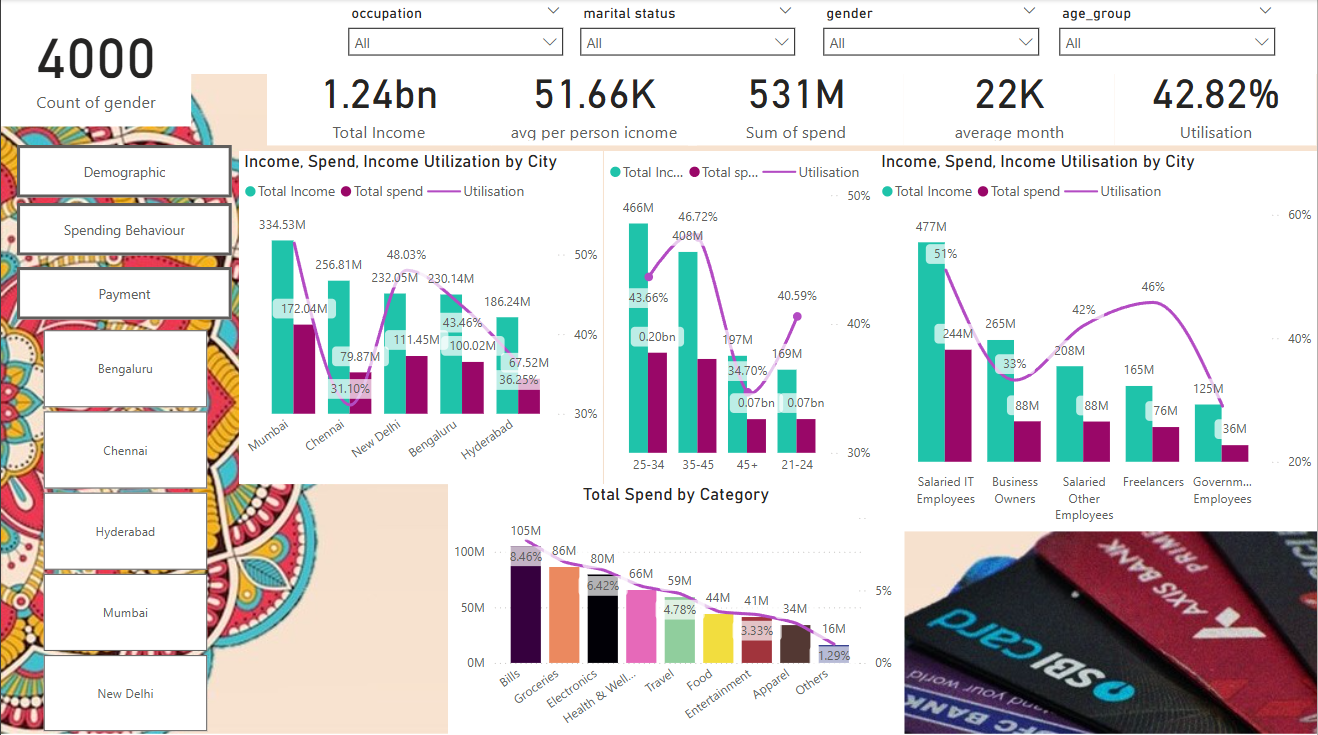

The dashboard page shown, as its layout file describes it:
{"tool":"powerbi","page":{"name":"Spending","canvas":[1280,720],"ordinal":1},"visuals":[{"type":"card","fields":{"Values":["Sum(fact_spends.spend)"]},"box":[668.2,55.4,210.1,86.6],"z":7000},{"type":"card","fields":{"Values":["merene.avg per person icnome"]},"box":[476.6,55.4,200.4,86.6],"z":8000},{"type":"card","fields":{"Values":["merene.Total Income"]},"box":[258.7,55.4,217.9,86.6],"z":9000},{"type":"card","fields":{"Values":["merene.average month"]},"box":[878.3,55.4,205.2,86.6],"z":10000},{"type":"card","fields":{"Values":["merene.Measure"]},"box":[1083.5,55.4,196.5,86.6],"z":11000},{"type":"lineClusteredColumnComboChart","fields":{"Category":["dim_customers.age_group"],"Y":["merene.Total Income","merene.Total spend"],"Y2":["merene.Utilisation"]},"box":[586.5,147.8,264.6,323.9],"z":12000},{"type":"lineStackedColumnComboChart","title":"Total Spend by Category","fields":{"Category":["fact_spends.category"],"Y":["merene.total spend of people"],"Y2":["merene.Utilisation"]},"box":[434.8,471.7,443.5,248],"z":17000},{"type":"shape","box":[0,0,1280,72.9],"z":18001},{"type":"slicer","fields":{"Values":["dim_customers.age_group"]},"box":[1019.3,0,229.5,69.1],"z":18002},{"type":"slicer","fields":{"Values":["dim_customers.occupation"]},"box":[327.8,0,228.6,72.9],"z":18003},{"type":"slicer","fields":{"Values":["dim_customers.marital status"]},"box":[553.4,0,228.6,72.9],"z":18004},{"type":"slicer","fields":{"Values":["dim_customers.gender"]},"box":[789.8,0,229.5,69.1],"z":18005},{"type":"card","fields":{"Values":["CountNonNull(dim_customers.gender)"]},"box":[0,0,184.8,123.5],"z":18006},{"type":"slicer","fields":{"Values":["dim_customers.city"]},"box":[15.6,315.6,208.9,404.4],"z":18007},{"type":"actionButton","box":[15.6,142.2,208.9,51.1],"z":18008},{"type":"actionButton","box":[15.6,198.9,208.9,51.1],"z":18009},{"type":"actionButton","box":[15.6,261.1,208.9,51.1],"z":18010},{"type":"lineClusteredColumnComboChart","title":"Income, Spend, Income Utilization by City","fields":{"Category":["dim_customers.city"],"Y":["merene.Total Income","merene.total spend of people"],"Y2":["merene.Utilisation"]},"box":[231.5,147.8,354,323.9],"z":18011},{"type":"lineClusteredColumnComboChart","title":"Income, Spend, Income Utilisation by City","fields":{"Y":["merene.Total Income","merene.total spend of people"],"Y2":["merene.Utilisation"],"Category":["dim_customers.occupation"]},"box":[851.1,147.8,428.9,369.6],"z":18012}]}

Visuals, with their boxes in screenshot pixels (x1, y1, x2, y2), scaled from the page's 1280x720 canvas onto the 1318x735 screenshot:
card - Sum(fact_spends.spend): left=688, top=57, right=904, bottom=145
card - merene.avg per person icnome: left=491, top=57, right=697, bottom=145
card - merene.Total Income: left=266, top=57, right=491, bottom=145
card - merene.average month: left=904, top=57, right=1116, bottom=145
card - merene.Measure: left=1116, top=57, right=1317, bottom=145
lineClusteredColumnComboChart - dim_customers.age_group x merene.Total Income: left=604, top=151, right=876, bottom=482
"Total Spend by Category" lineStackedColumnComboChart: left=448, top=482, right=904, bottom=734
shape: left=0, top=0, right=1317, bottom=74
slicer - dim_customers.age_group: left=1050, top=0, right=1286, bottom=71
slicer - dim_customers.occupation: left=338, top=0, right=573, bottom=74
slicer - dim_customers.marital status: left=570, top=0, right=805, bottom=74
slicer - dim_customers.gender: left=813, top=0, right=1050, bottom=71
card - CountNonNull(dim_customers.gender): left=0, top=0, right=190, bottom=126
slicer - dim_customers.city: left=16, top=322, right=231, bottom=734
actionButton: left=16, top=145, right=231, bottom=197
actionButton: left=16, top=203, right=231, bottom=255
actionButton: left=16, top=267, right=231, bottom=319
"Income, Spend, Income Utilization by City" lineClusteredColumnComboChart: left=238, top=151, right=603, bottom=482
"Income, Spend, Income Utilisation by City" lineClusteredColumnComboChart: left=876, top=151, right=1317, bottom=528
